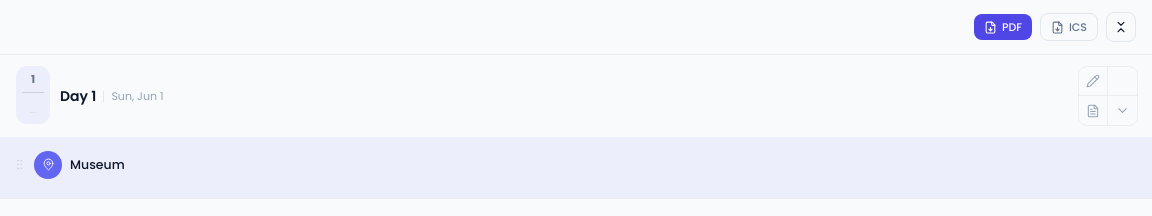
Test: DayPlanSidebar › FE-PLANNER-DAYPLAN-062: place with website shows website option in context menu
Right-click the text "Museum" at coordinates (97, 164), box [70, 157, 125, 172]
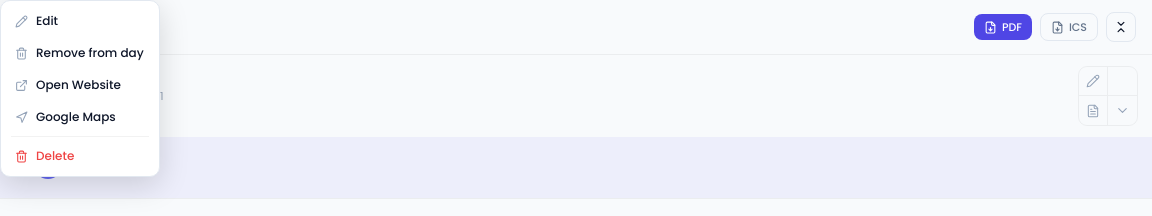
Now the text "Open Website" is shown, box [36, 76, 121, 94]
